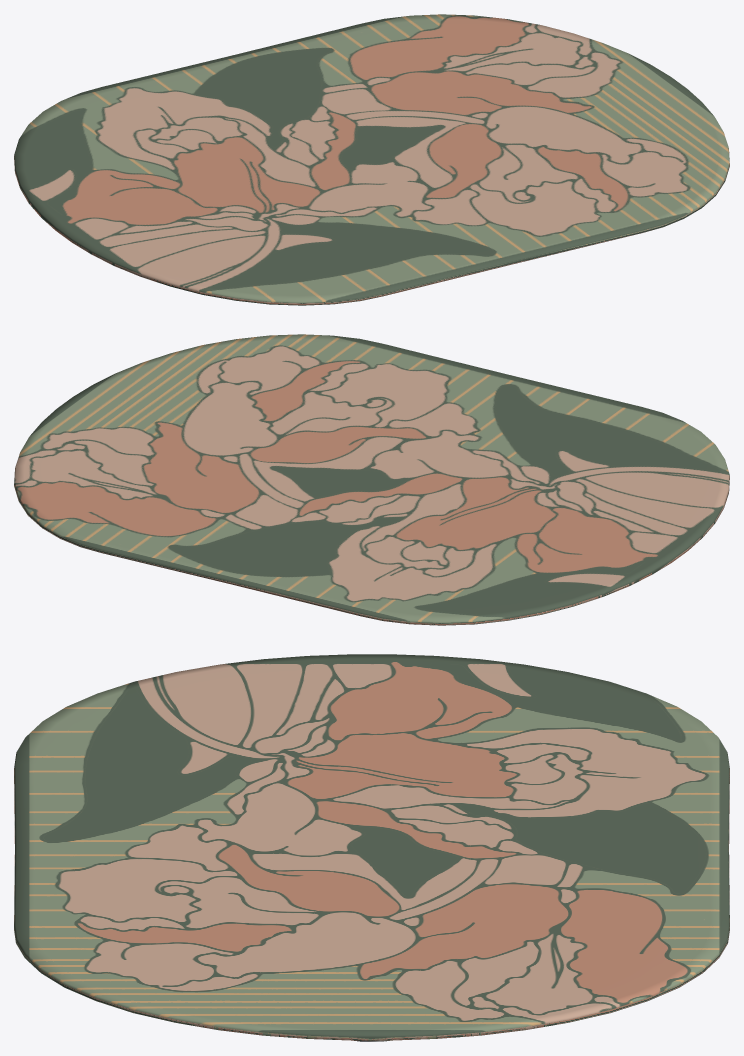
3 renders of one model, top to bottom at view 1: azimuth 30°, elevation 25°; view 2: azimuth 150°, elevation 25°; view 3: azimuth 270°, elevation 25°, orthographic. The views are drawn at different scales.
Parts seen in each view (by area): view 1: Cylinder001_Retopo; view 2: Cylinder001_Retopo; view 3: Cylinder001_Retopo.
Part boxes in pixels (x1,y1,x2,y2): Cylinder001_Retopo: (14,14,729,305); Cylinder001_Retopo: (14,334,729,625); Cylinder001_Retopo: (14,654,729,1041).
Size of the model in its own units: 2 by 0.0143 by 1.58.
Materials: 2 (2 with a texture image).
